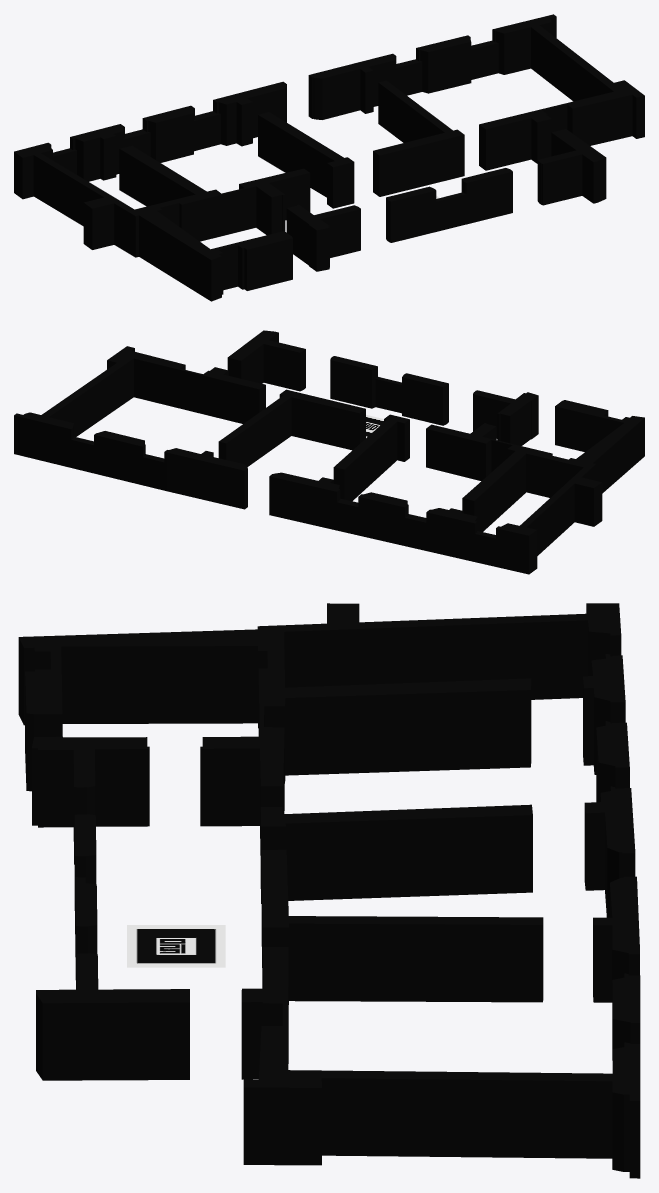
File: Museo_solomuri.obj
3 renders of one model, top to bottom at view 1: azimuth 30°, elevation 25°; view 2: azimuth 150°, elevation 25°; view 3: azimuth 270°, elevation 25°, orthographic. The views are drawn at different scales.
Size of the model in its own units: 510 by 37 by 269.
